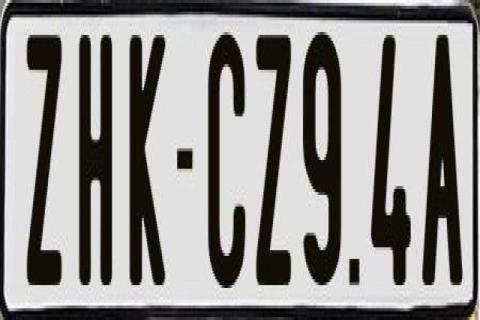0: (369, 29, 414, 279), (302, 29, 340, 297)
A: (422, 26, 466, 288)
C: (208, 29, 245, 299)
H: (76, 35, 111, 299)
K: (129, 32, 166, 300)
Z: (26, 35, 64, 303), (253, 29, 290, 285)
